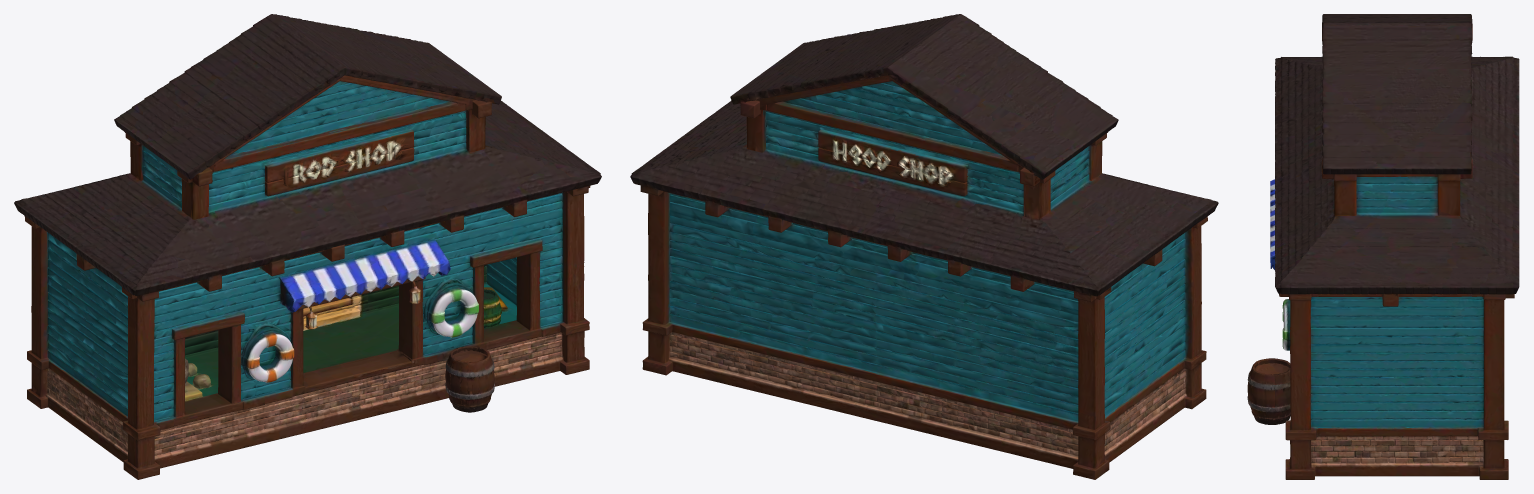
Rendered from teal_rod_shop_3d_model-dc32d611.glb.
3 views of the same model, side by side, from view 1: azimuth 30°, elevation 25°; view 2: azimuth 150°, elevation 25°; view 3: azimuth 270°, elevation 25° (orthographic).
Parts seen in each view (by area): view 1: tripo_node_0d5c61c3-1d94-41d4-9e7f-fa88d58a96ff; view 2: tripo_node_0d5c61c3-1d94-41d4-9e7f-fa88d58a96ff; view 3: tripo_node_0d5c61c3-1d94-41d4-9e7f-fa88d58a96ff.
Part boxes in pixels (x1,y1,x2,y2): tripo_node_0d5c61c3-1d94-41d4-9e7f-fa88d58a96ff: (14,14,601,479); tripo_node_0d5c61c3-1d94-41d4-9e7f-fa88d58a96ff: (630,14,1218,479); tripo_node_0d5c61c3-1d94-41d4-9e7f-fa88d58a96ff: (1247,14,1519,479).
Bounding box in the file's own units: 0.9821 × 0.6864 × 0.4893.
Materials: 1 (1 with a texture image).
